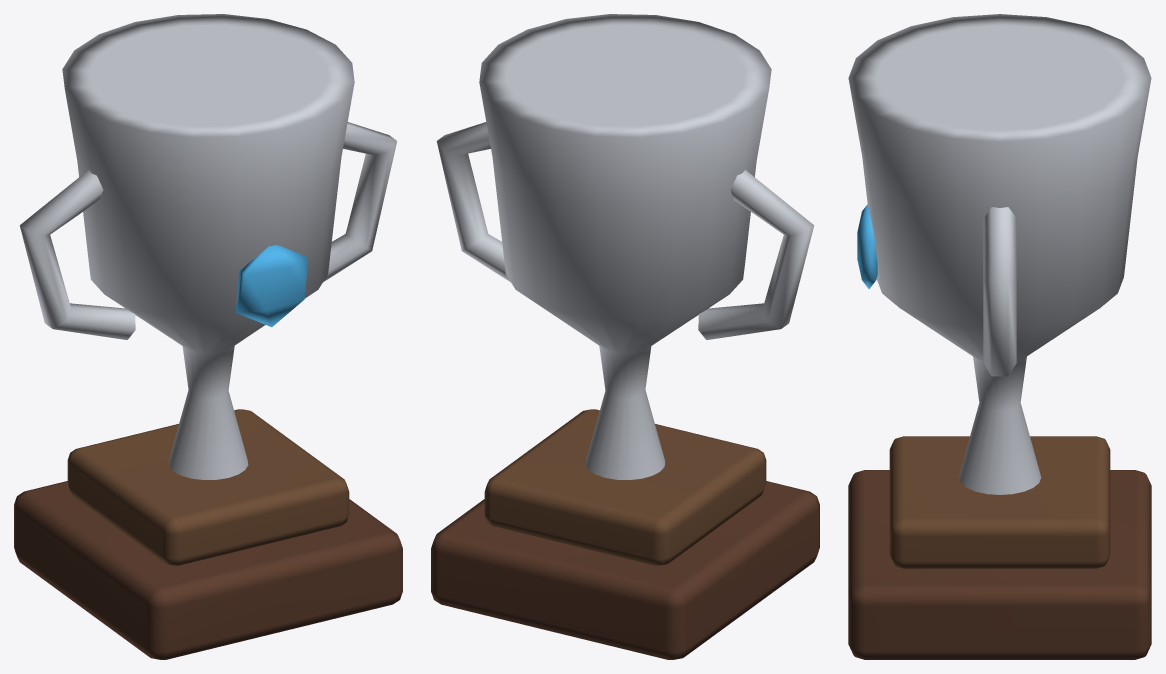
The model's file is furn_trophy_rope.glb.
3 renders of one model, left to right at view 1: azimuth 30°, elevation 25°; view 2: azimuth 150°, elevation 25°; view 3: azimuth 270°, elevation 25°, orthographic. The views are drawn at different scales.
Visible parts, largest first — view 1: furn_trophy_rope_gloss, furn_trophy_rope_main; view 2: furn_trophy_rope_gloss, furn_trophy_rope_main; view 3: furn_trophy_rope_gloss, furn_trophy_rope_main.
Boxes of the visible parts, box(x1,y1,x2,y2) form: furn_trophy_rope_gloss: box(19, 14, 397, 479); furn_trophy_rope_main: box(14, 245, 402, 659); furn_trophy_rope_gloss: box(436, 14, 814, 479); furn_trophy_rope_main: box(431, 409, 819, 659); furn_trophy_rope_gloss: box(848, 14, 1151, 494); furn_trophy_rope_main: box(848, 204, 1151, 659).
Bounding box in the file's own units: 0.3194 × 0.42 × 0.22.
